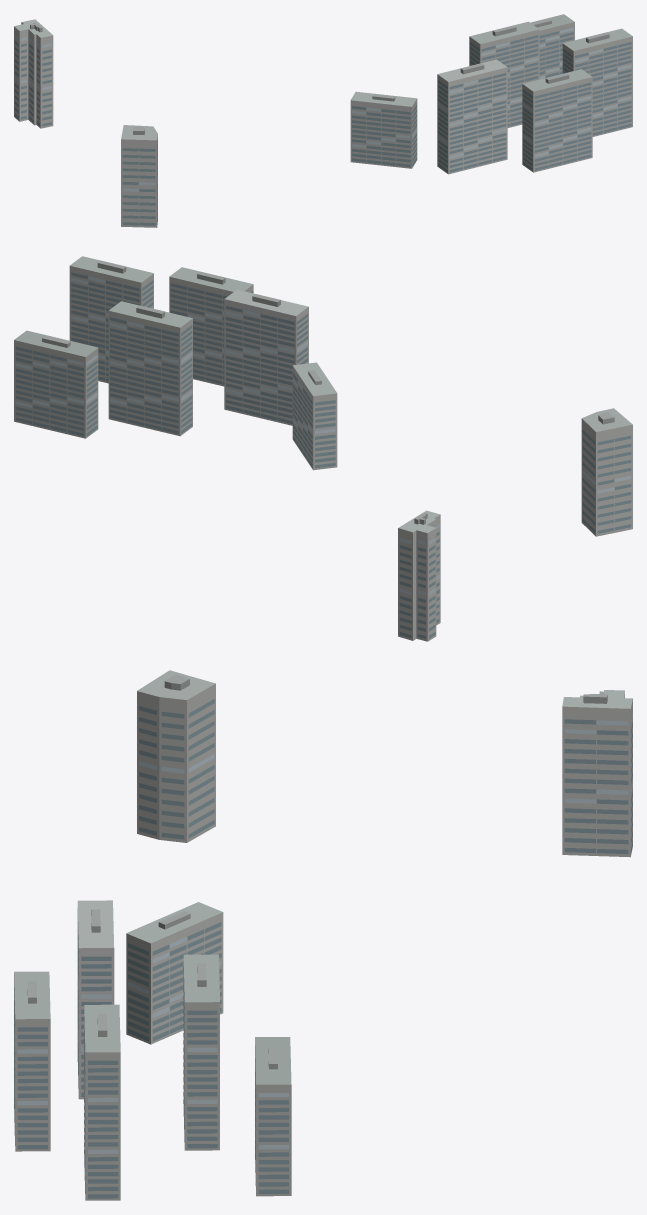
File: apt-a10025754.glb
The picture shows the model from 3 angles, top to bottom: view 1: azimuth 30°, elevation 25°; view 2: azimuth 150°, elevation 25°; view 3: azimuth 270°, elevation 25°; orthographic projection. The views are drawn at different scales.
Parts seen in each view (by area): view 1: apt-a10025754; view 2: apt-a10025754; view 3: apt-a10025754.
Boxes of the visible parts, <box> form: apt-a10025754: <box>14,14,632,227</box>; apt-a10025754: <box>14,256,632,641</box>; apt-a10025754: <box>14,670,632,1200</box>.
Bounding box in the file's own units: 306 × 58 × 207.
